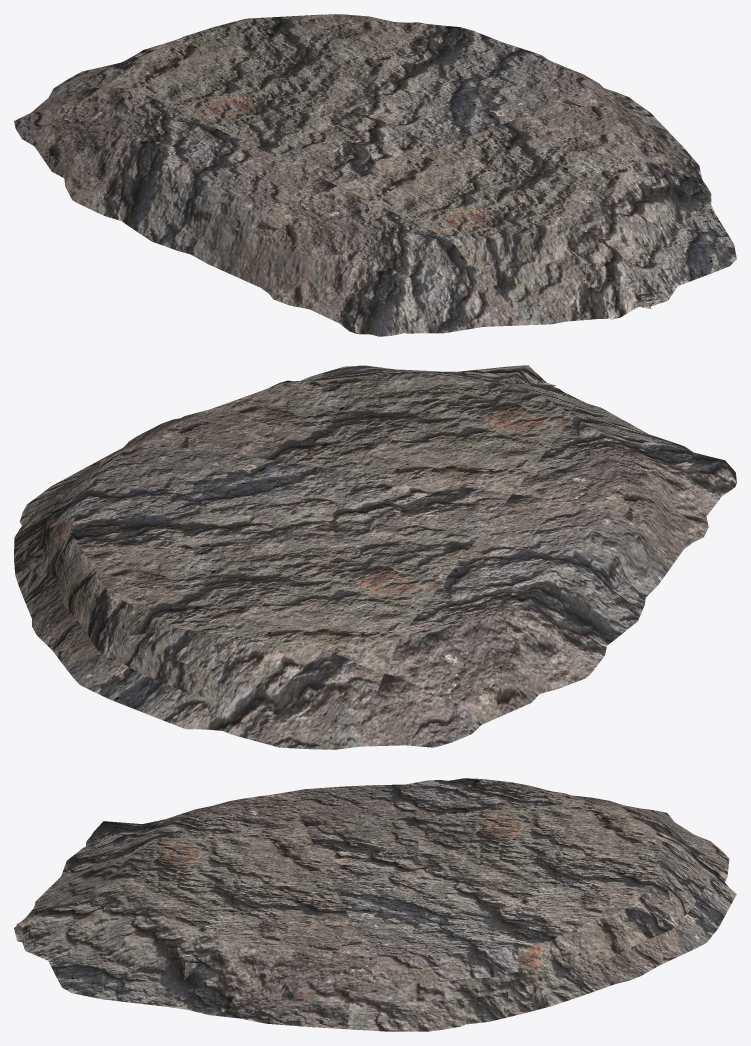
Rendered from Custom_Model_abc4b7-transformed.glb.
3 views of the same model, one above another, from view 1: azimuth 30°, elevation 25°; view 2: azimuth 150°, elevation 25°; view 3: azimuth 270°, elevation 25° (orthographic). The views are drawn at different scales.
Visible parts, largest first — view 1: group_5_ID355; view 2: group_5_ID355; view 3: group_5_ID355.
Boxes of the visible parts, x1,y1,x2,y2 form: group_5_ID355: (14, 14, 736, 336); group_5_ID355: (14, 365, 736, 749); group_5_ID355: (14, 778, 736, 1031).
Size of the model in its own units: 11.58 by 1.01 by 15.01.
Materials: 1 (1 with a texture image).
